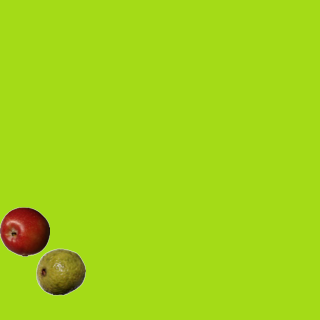Apple Braeburn: (0, 206, 49, 256)
Guava: (35, 246, 85, 296)
